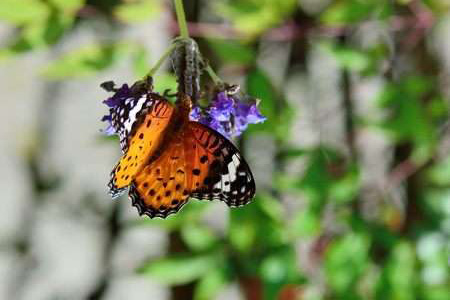Argyreus hyperbius: (96, 85, 261, 221)
butterfly: (98, 87, 263, 223)
